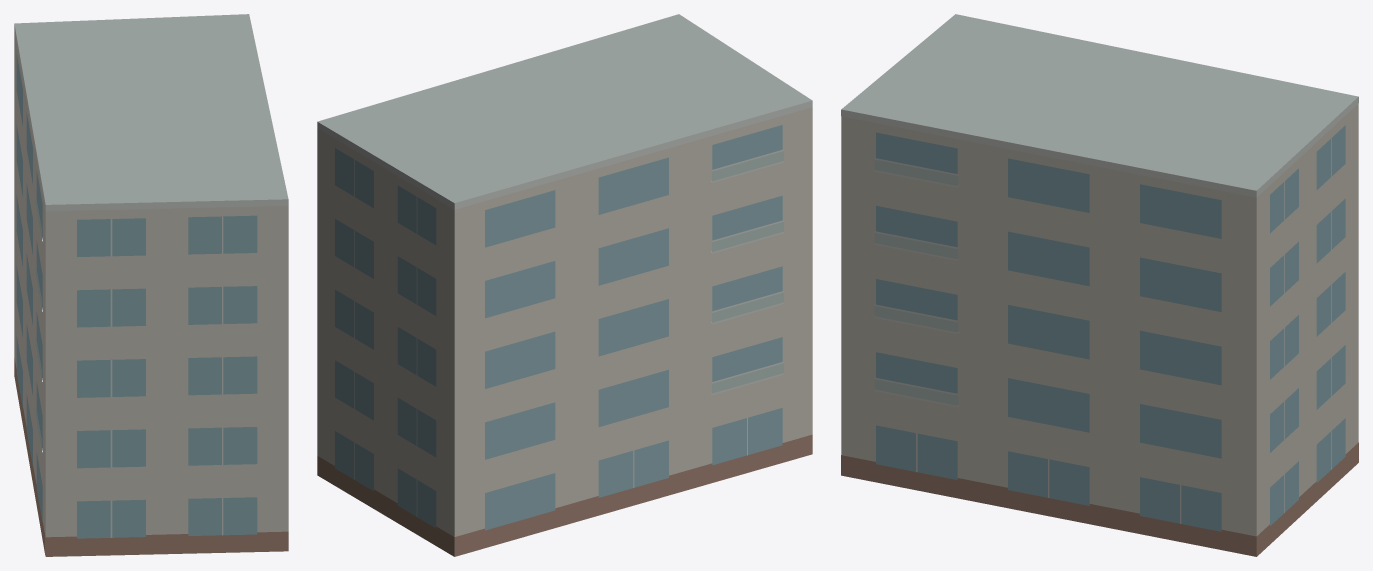
The model's file is survey-upis-32951769.glb.
3 renders of one model, left to right at view 1: azimuth 30°, elevation 25°; view 2: azimuth 150°, elevation 25°; view 3: azimuth 270°, elevation 25°, orthographic. The views are drawn at different scales.
Parts seen in each view (by area): view 1: survey-upis-32951769.tmp; view 2: survey-upis-32951769.tmp; view 3: survey-upis-32951769.tmp.
Part boxes in pixels (box(x1,y1,x2,y2)): survey-upis-32951769.tmp: box(14, 14, 288, 556); survey-upis-32951769.tmp: box(317, 14, 812, 556); survey-upis-32951769.tmp: box(841, 14, 1358, 556).
Bounding box in the file's own units: 13.68 × 13.2 × 16.92.
